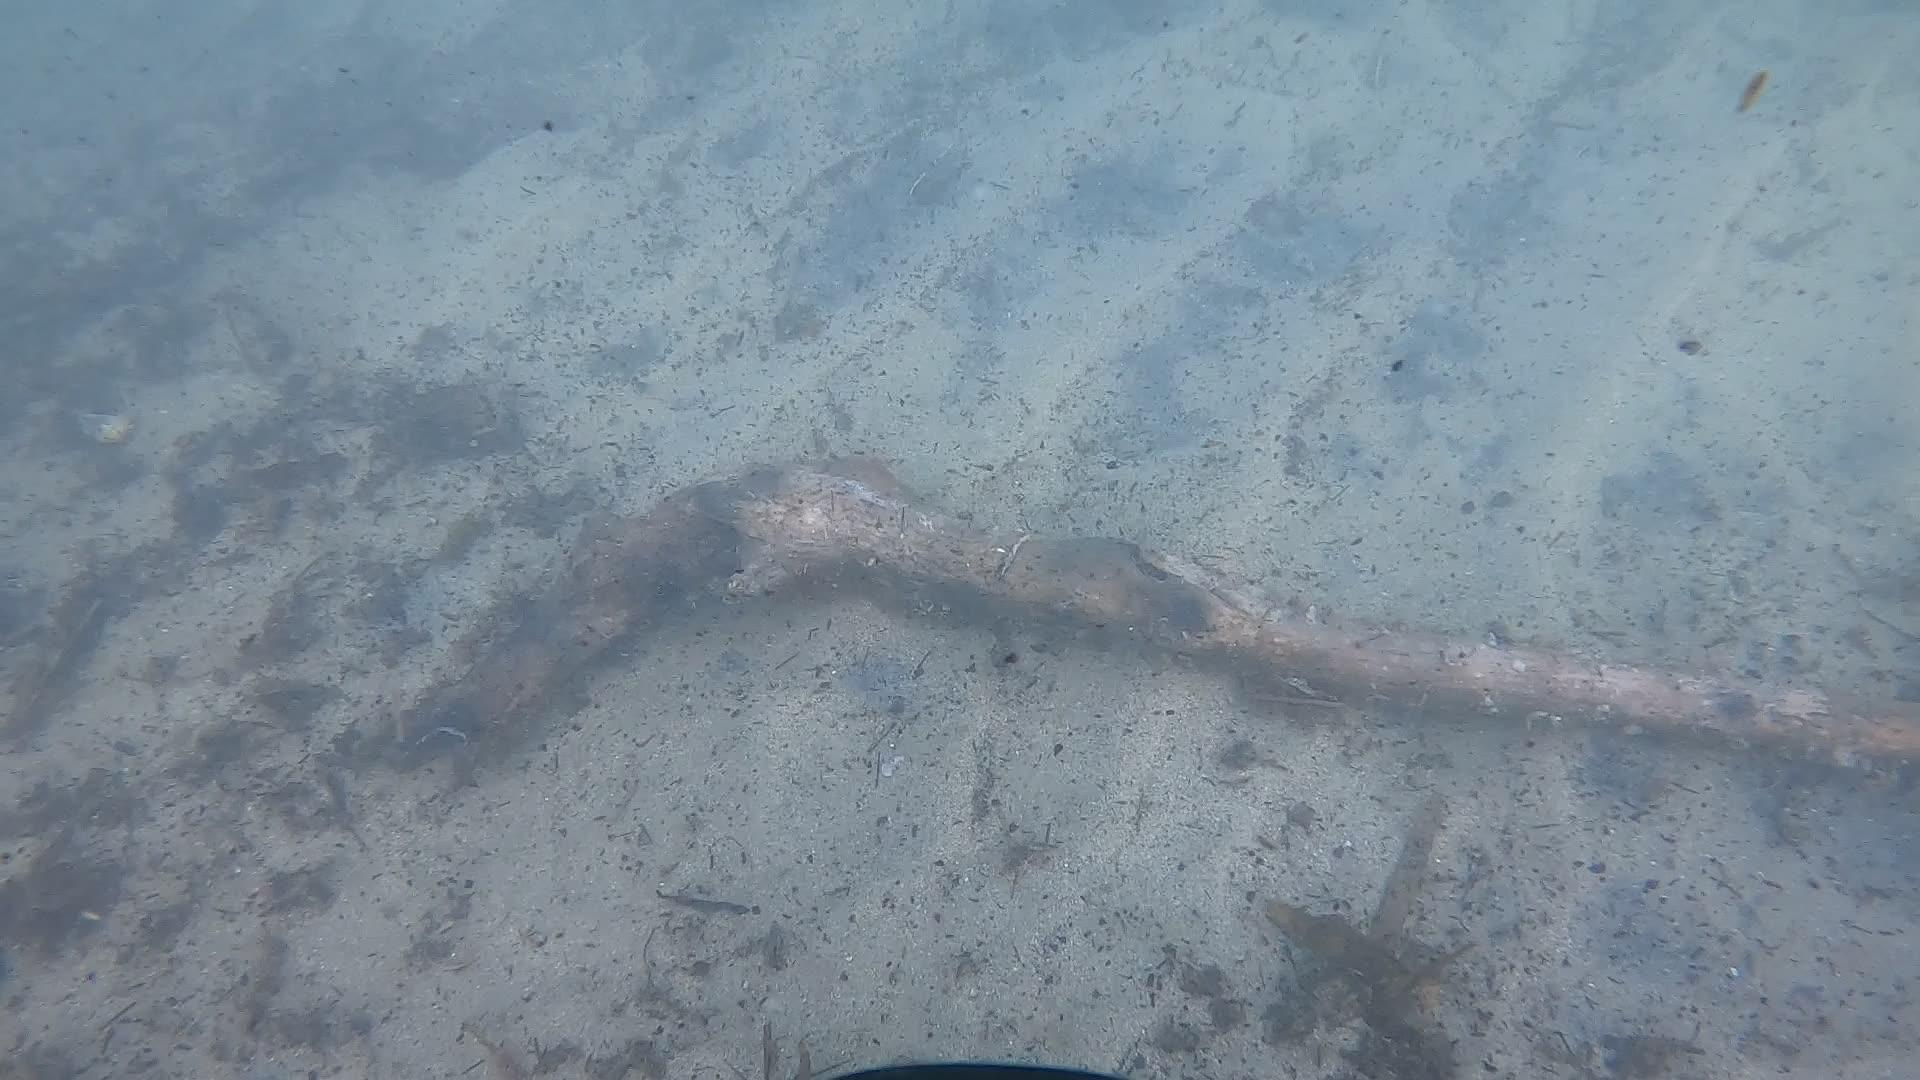wood: (717, 469, 1920, 786)
